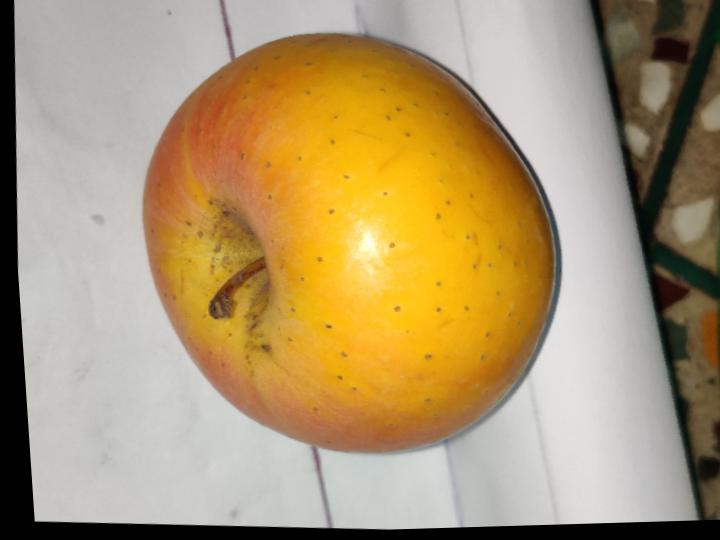apple: (143, 34, 555, 453)
bruise_discoloration: (197, 203, 262, 289)
